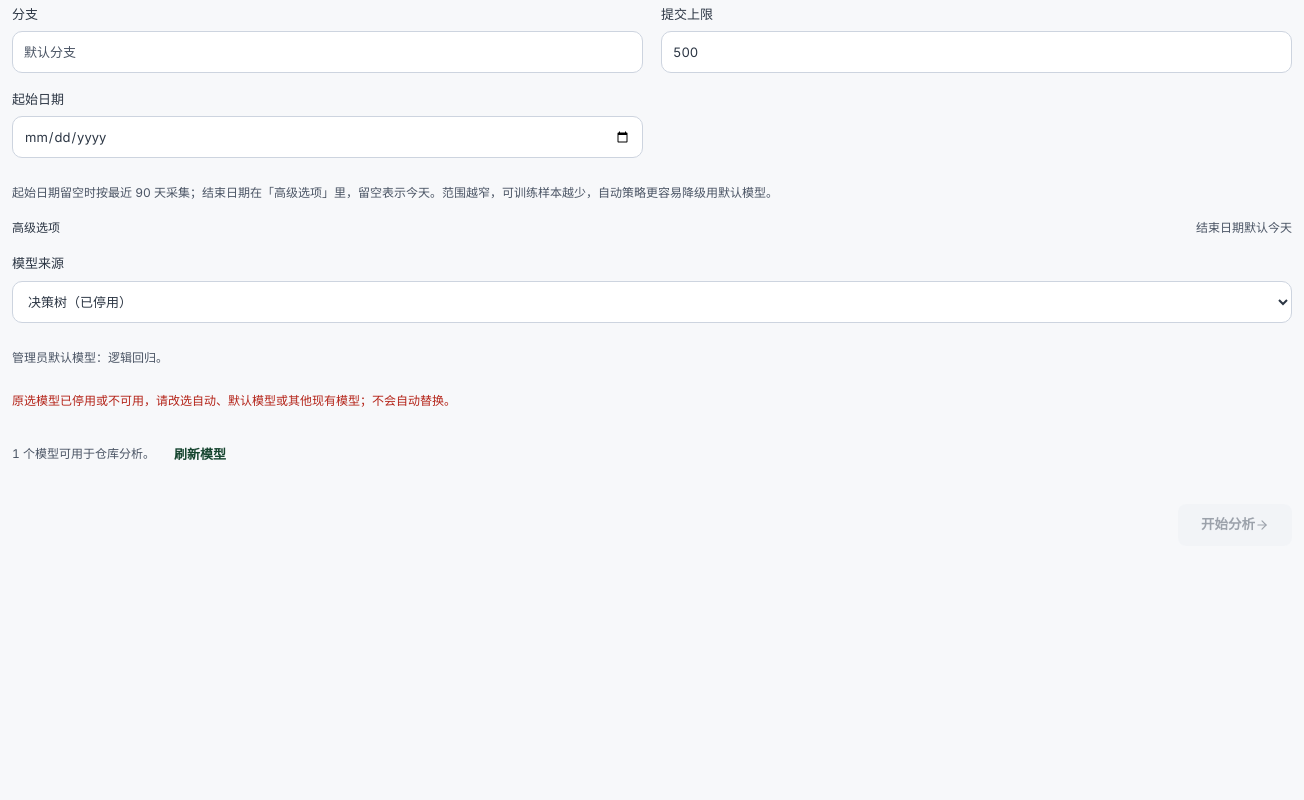
Test: explains the administrator default and blocks a saved disabled selection until corrected
This screenshot has width=1304, height=800.
Expected: the text "管理员默认模型：逻辑回归。" is shown, [12, 350, 168, 365]
Expected: the text "原选模型已停用或不可用，请改选自动、默认模型或其他现有模型；不会自动替换。" is shown, [12, 393, 456, 408]
Select "自动（数据足够就训练，不足用默认模型）" in the dropdown labelled "模型来源". click: (652, 302)
box: [12, 281, 1292, 323]
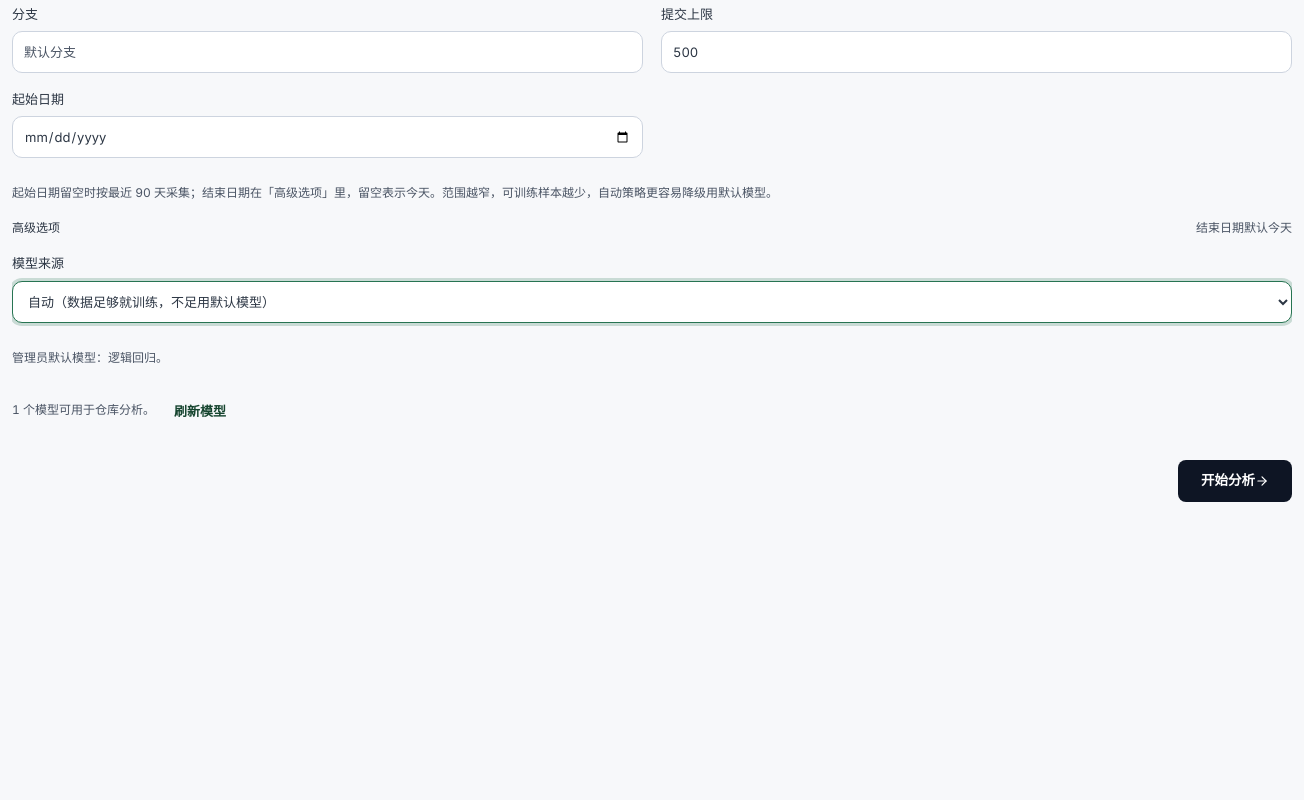
Expected: the button "开始分析" is enabled, [1178, 460, 1292, 502]
